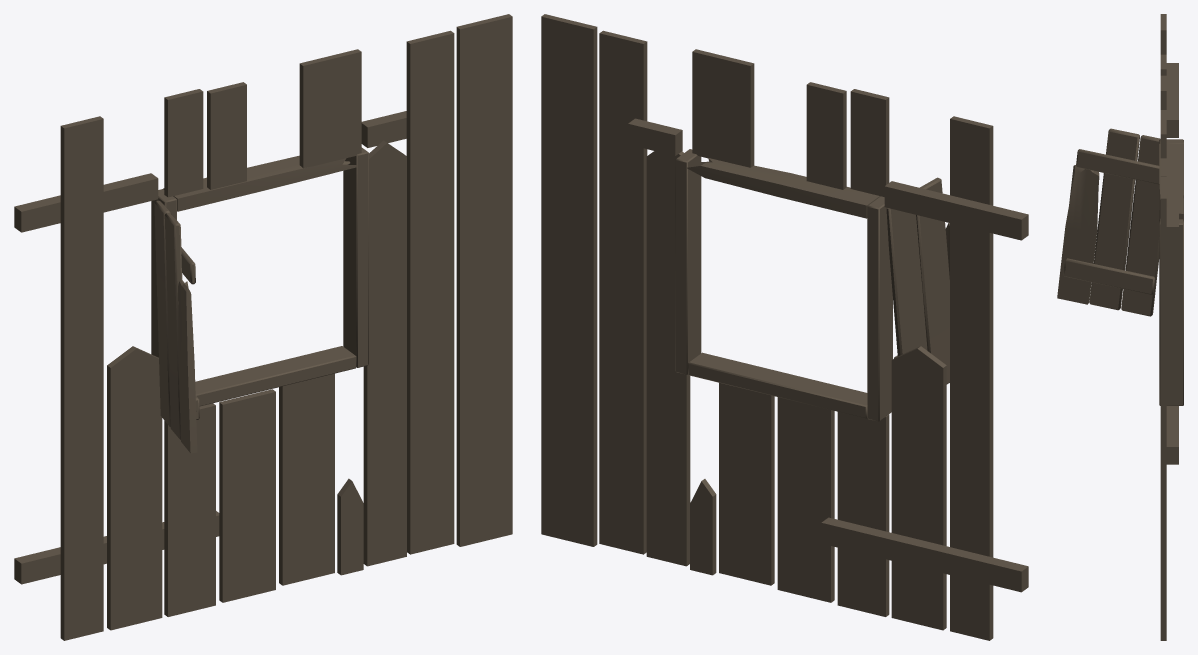
File: bretter_fenster_kaputt.glb
The picture shows the model from 3 angles, left to right: view 1: azimuth 30°, elevation 25°; view 2: azimuth 150°, elevation 25°; view 3: azimuth 270°, elevation 25°; orthographic projection. The views are drawn at different scales.
Parts seen in each view (by area): view 1: bretter_fenster_kaputt; view 2: bretter_fenster_kaputt; view 3: bretter_fenster_kaputt.
Boxes of the visible parts, x1,y1,x2,y2 form: bretter_fenster_kaputt: (14, 14, 512, 640); bretter_fenster_kaputt: (541, 14, 1028, 640); bretter_fenster_kaputt: (1057, 14, 1183, 640).
Bounding box in the file's own units: 1.96 × 1.99 × 0.5161.
